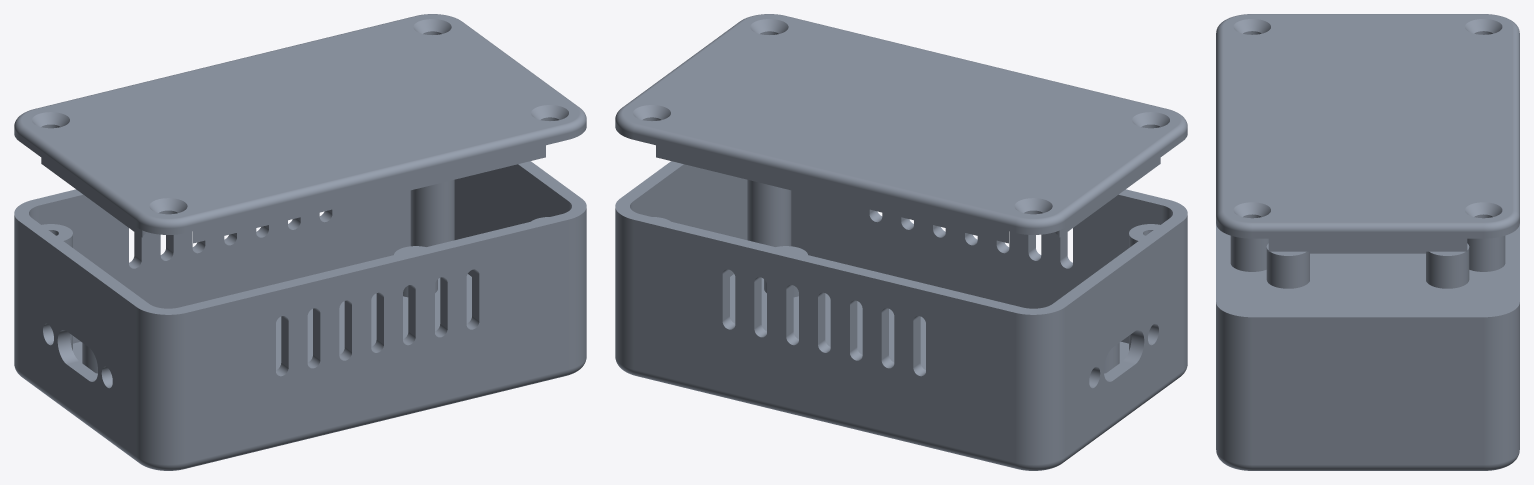
File: step-6.glb
The picture shows the model from 3 angles, left to right: view 1: azimuth 30°, elevation 25°; view 2: azimuth 150°, elevation 25°; view 3: azimuth 270°, elevation 25°; orthographic projection.
Parts seen in each view (by area): view 1: face_5b49154e035cc3bbc59b, face_38d749f3300c008729d3, face_5fa8d3c873694b77537b, face_38c325c63db3888e8b3d, face_8ae94c1f7d0a9e66d1f9, face_4668c5ffcd0d728ce001, face_321cb0aea50629aa26d9, face_c2aaf65a1c2d8c91c527, face_32e3d20472e4e1a9567f, face_c35c8bf9dcc2b3c32720, face_175f7b1f3dd63deb633b, face_4968c76b1ad37ab48fba (+8 smaller); view 2: face_5b49154e035cc3bbc59b, face_4bc607b143643134fda7, face_8d476f1105c5b675832b, face_38c325c63db3888e8b3d, face_fd40d69dbfc97b0ae30c, face_4668c5ffcd0d728ce001, face_321cb0aea50629aa26d9, face_1c2ac9751814ddf09a98, face_b965c713a36a0824099b, face_b7d12cd943e777221633, face_d2f2e92f789a5da8d26c, face_2625f8f0666d3fe96e92 (+8 smaller); view 3: face_5b49154e035cc3bbc59b, face_f9e02b68c5aadb2a0dd7, face_006e718ea955aca575eb, face_c35c8bf9dcc2b3c32720, face_b7d12cd943e777221633, face_4668c5ffcd0d728ce001, face_c932eae7b252c8547089, face_13922978336fa3530d55, face_8ff70ed42a7977d22eb0, face_73534dd4976271c3e973, face_32e3d20472e4e1a9567f, face_b965c713a36a0824099b (+11 smaller).
Boxes of the visible parts, x1,y1,x2,y2 form: face_5b49154e035cc3bbc59b: [21, 14, 579, 218]; face_38d749f3300c008729d3: [186, 220, 568, 462]; face_5fa8d3c873694b77537b: [40, 190, 410, 343]; face_38c325c63db3888e8b3d: [19, 221, 136, 456]; face_8ae94c1f7d0a9e66d1f9: [136, 307, 186, 464]; face_4668c5ffcd0d728ce001: [14, 161, 586, 314]; face_321cb0aea50629aa26d9: [454, 164, 568, 276]; face_c2aaf65a1c2d8c91c527: [193, 145, 545, 243]; face_32e3d20472e4e1a9567f: [183, 124, 568, 225]; face_c35c8bf9dcc2b3c32720: [568, 208, 586, 369]; face_175f7b1f3dd63deb633b: [186, 133, 568, 232]; face_4968c76b1ad37ab48fba: [410, 179, 454, 246]; face_5b49154e035cc3bbc59b: [622, 14, 1180, 218]; face_4bc607b143643134fda7: [633, 220, 1015, 462]; face_8d476f1105c5b675832b: [791, 190, 1161, 343]; face_38c325c63db3888e8b3d: [1065, 221, 1182, 456]; face_fd40d69dbfc97b0ae30c: [1015, 307, 1065, 464]; face_4668c5ffcd0d728ce001: [615, 161, 1187, 314]; face_321cb0aea50629aa26d9: [633, 164, 747, 276]; face_1c2ac9751814ddf09a98: [656, 145, 1008, 243]; face_b965c713a36a0824099b: [633, 124, 1018, 225]; face_b7d12cd943e777221633: [615, 208, 633, 369]; face_d2f2e92f789a5da8d26c: [633, 133, 1015, 232]; face_2625f8f0666d3fe96e92: [747, 179, 791, 246]; face_5b49154e035cc3bbc59b: [1223, 14, 1512, 222]; face_f9e02b68c5aadb2a0dd7: [1252, 317, 1483, 464]; face_006e718ea955aca575eb: [1230, 253, 1505, 311]; face_c35c8bf9dcc2b3c32720: [1216, 302, 1252, 464]; face_b7d12cd943e777221633: [1483, 302, 1519, 464]; face_4668c5ffcd0d728ce001: [1216, 224, 1519, 317]; face_c932eae7b252c8547089: [1268, 238, 1467, 251]; face_13922978336fa3530d55: [1252, 222, 1483, 231]; face_8ff70ed42a7977d22eb0: [1252, 464, 1483, 470]; face_73534dd4976271c3e973: [1252, 232, 1483, 238]; face_32e3d20472e4e1a9567f: [1216, 27, 1223, 215]; face_b965c713a36a0824099b: [1512, 27, 1519, 215].
Size of the model in its own units: 0.07 by 0.038 by 0.042.
